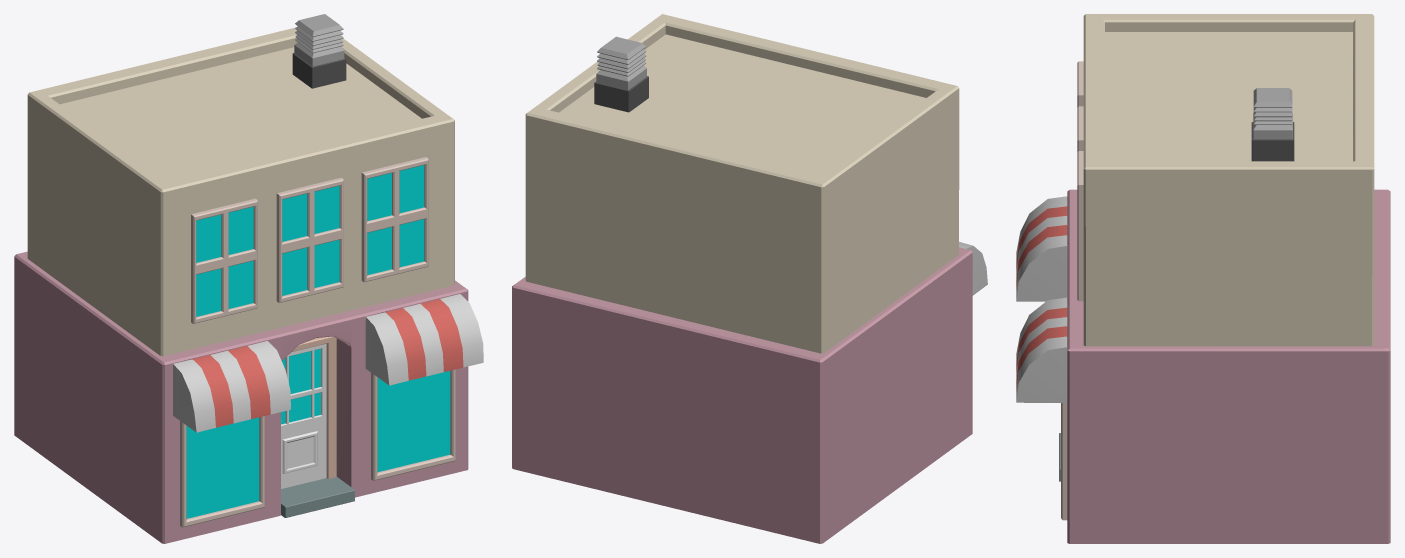
File: Tienda_01.fbx
The picture shows the model from 3 angles, left to right: view 1: azimuth 30°, elevation 25°; view 2: azimuth 150°, elevation 25°; view 3: azimuth 270°, elevation 25°; orthographic projection. The views are drawn at different scales.
Visible parts, largest first — view 1: polySurface136; view 2: polySurface136; view 3: polySurface136.
Part boxes in pixels (left/top/right/bottom): polySurface136: left=14, top=14, right=483, bottom=543; polySurface136: left=512, top=14, right=987, bottom=543; polySurface136: left=1016, top=14, right=1390, bottom=543.
Size of the model in its own units: 966 by 1177 by 949.
